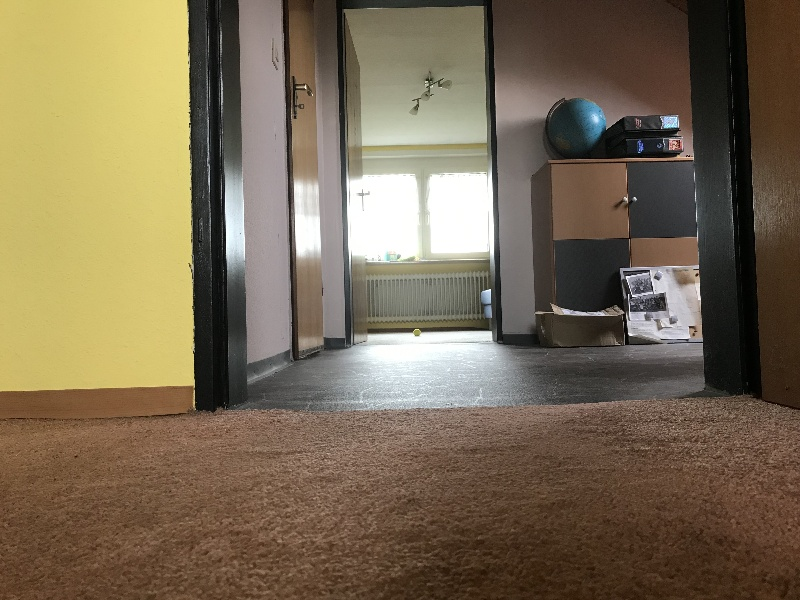Tennisball: (407, 324, 424, 340)
